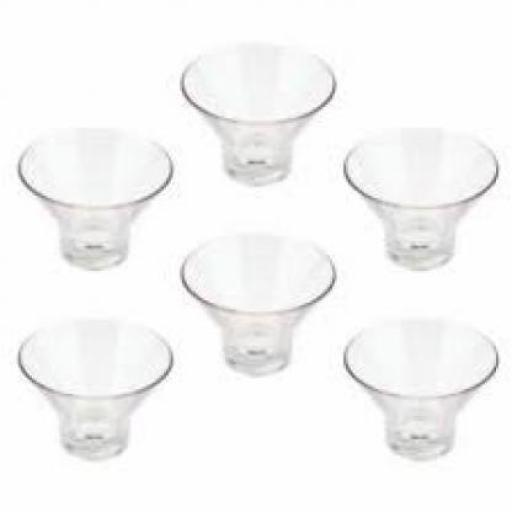glass: (341, 123, 496, 268), (16, 314, 171, 458), (14, 127, 171, 269), (341, 316, 496, 456), (178, 234, 332, 374), (180, 46, 332, 182)
